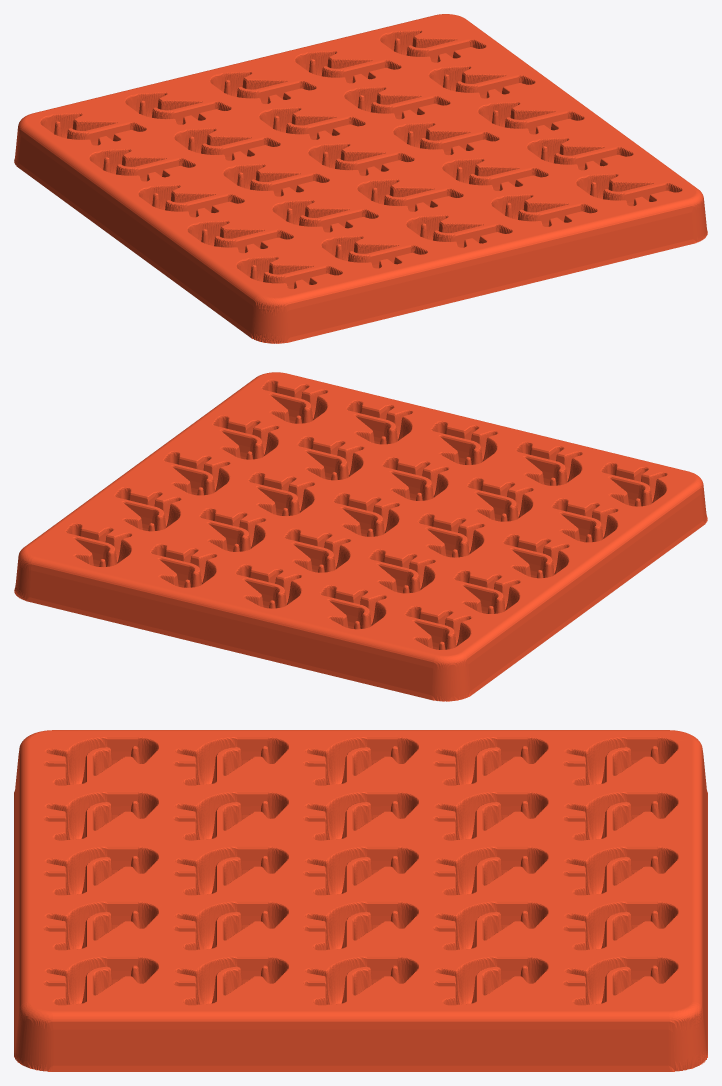
The model's file is mold.glb.
3 views of the same model, one above another, from view 1: azimuth 30°, elevation 25°; view 2: azimuth 150°, elevation 25°; view 3: azimuth 270°, elevation 25° (orthographic). The views are drawn at different scales.
Parts seen in each view (by area): view 1: geometry_0; view 2: geometry_0; view 3: geometry_0.
Part boxes in pixels (box(x1,y1,x2,y2)): geometry_0: box(14, 14, 707, 343); geometry_0: box(14, 372, 707, 701); geometry_0: box(14, 730, 707, 1071).
Bounding box in the file's own units: 0.1584 × 0.0136 × 0.1584.
